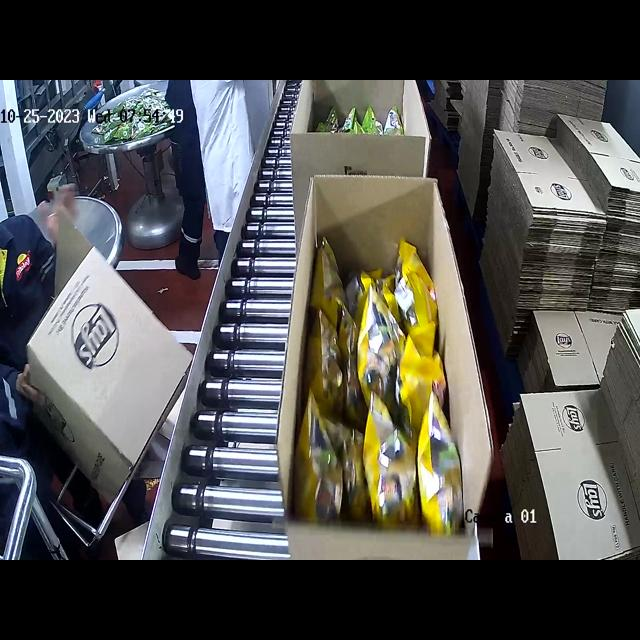salted: (305, 225, 461, 537)
yogurt: (318, 100, 413, 138)
